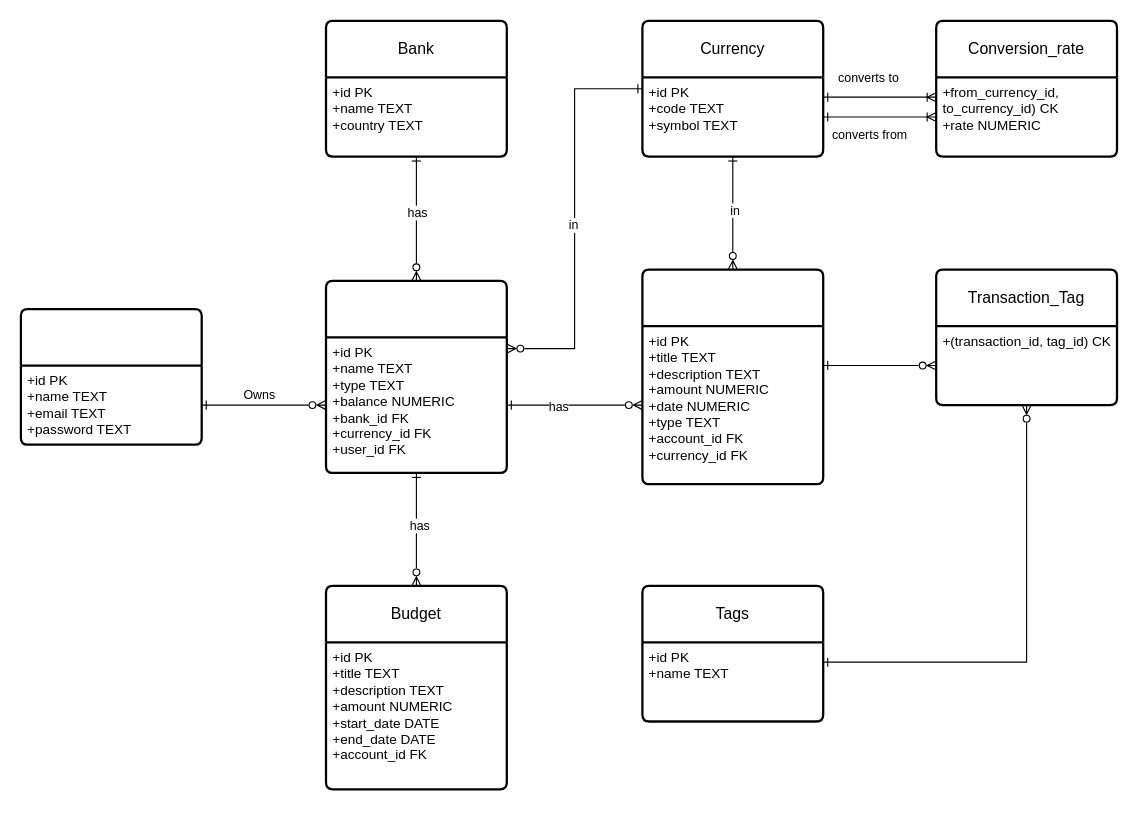
Some shapes in this 1137 by 818 pixel diagram are drawn without their labels. Here are the shapes that lost their labels. From the top down, the box of each, then its label:
(19, 307, 202, 445): User
(324, 279, 507, 473): Account
(641, 268, 824, 485): Transaction
